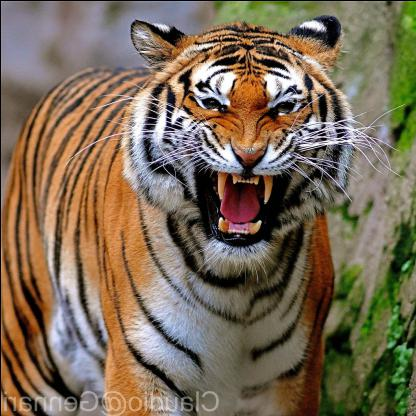tiger: (115, 18, 362, 264)
